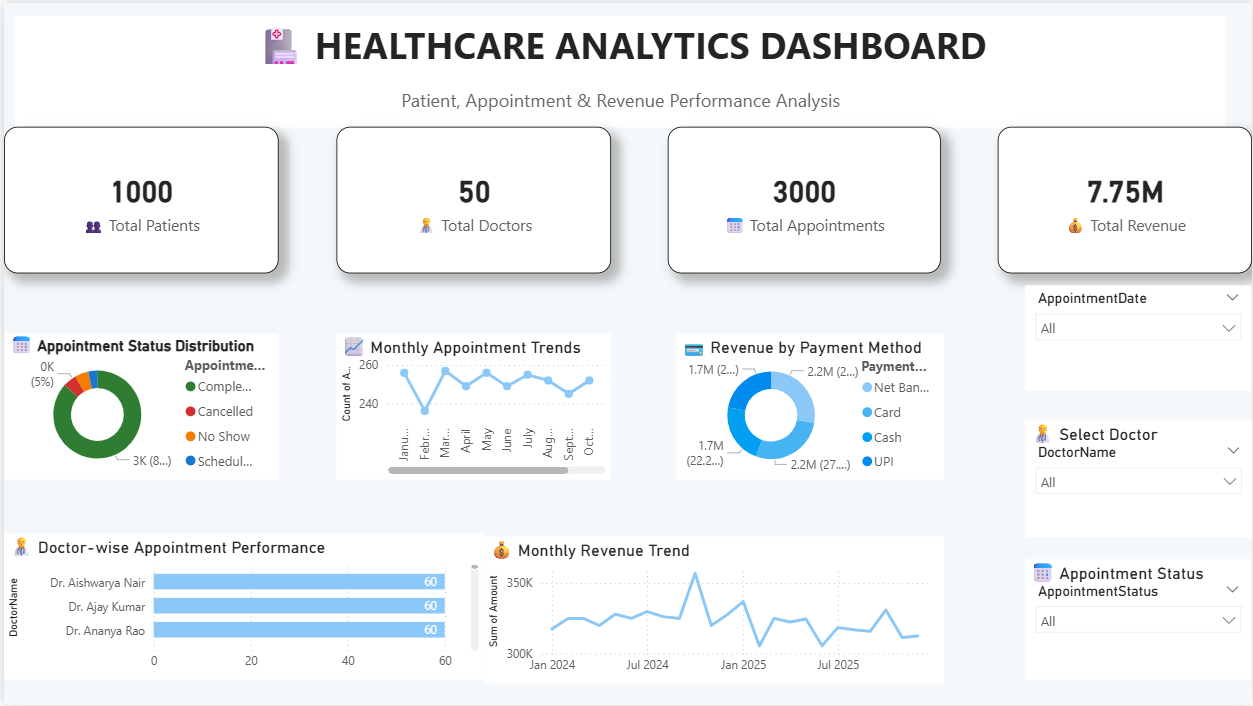

Layout of this report page (visuals, bound fields, positions):
{"tool":"powerbi","page":{"name":"Hospital Overview","canvas":[1280,720],"ordinal":0},"visuals":[{"type":"textbox","box":[11.6,12.8,1241.9,69.8],"z":0},{"type":"textbox","box":[11.6,82.6,1241.9,45.3],"z":1000},{"type":"card","title":"Total Patients","fields":{"Values":["CountNonNull(healthcare_analysis patients.PatientID)"]},"box":[0,127.2,281.4,150.4],"z":2000},{"type":"card","fields":{"Values":["CountNonNull(healthcare_analysis doctors.DoctorID)"]},"box":[340.4,127.2,281.4,150.4],"z":3000},{"type":"card","fields":{"Values":["CountNonNull(healthcare_analysis appointments.AppointmentID)"]},"box":[680.8,127.2,280,150],"z":4000},{"type":"card","fields":{"Values":["Sum(healthcare_analysis billing.Amount)"]},"box":[1019,127.2,261,150],"z":5000},{"type":"donutChart","title":"📅 Appointment Status Distribution","fields":{"Category":["healthcare_analysis appointments.AppointmentStatus"],"Y":["CountNonNull(healthcare_analysis appointments.AppointmentDate)"]},"box":[1.2,338.4,280.2,150],"z":6000},{"type":"lineChart","title":"📈 Monthly Appointment Trends","fields":{"Category":["healthcare_analysis appointments.AppointmentDate.Variation.Date Hierarchy.Month"],"Y":["CountNonNull(healthcare_analysis appointments.AppointmentID)"]},"box":[340.7,338.4,281.4,150],"z":7000},{"type":"clusteredBarChart","title":"👨⚕️ Doctor-wise Appointment Performance","fields":{"Category":["healthcare_analysis doctors.DoctorName"],"Y":["CountNonNull(healthcare_analysis appointments.AppointmentID)"]},"box":[0,544.2,491.9,150],"z":8000},{"type":"lineChart","title":"💰 Monthly Revenue Trend","fields":{"Y":["Sum(healthcare_analysis billing.Amount)"],"Category":["healthcare_analysis billing.BillDate.Variation.Date Hierarchy.Year","healthcare_analysis billing.BillDate.Variation.Date Hierarchy.Month"]},"box":[491.9,547.7,472.1,150],"z":9000},{"type":"donutChart","title":"💳 Revenue by Payment Method","fields":{"Category":["healthcare_analysis billing.PaymentMethod"],"Y":["Sum(healthcare_analysis billing.Amount)"]},"box":[689.5,338.4,274.4,150],"z":10000},{"type":"slicer","fields":{"Values":["healthcare_analysis appointments.AppointmentDate"]},"box":[1047.7,289.5,231.4,108.1],"z":11000},{"type":"slicer","title":"👨⚕️ Select Doctor","fields":{"Values":["healthcare_analysis doctors.DoctorName"]},"box":[1047.7,427.9,232.6,119.8],"z":12000},{"type":"slicer","title":"📅 Appointment Status","fields":{"Values":["healthcare_analysis appointments.AppointmentStatus"]},"box":[1047.7,570.9,231.4,123.3],"z":13000}]}

Visuals, with their boxes in screenshot pixels (x1, y1, x2, y2), scaled from the page's 1280x720 canvas onto the 1253x706 screenshot:
textbox: BBox(11, 13, 1227, 81)
textbox: BBox(11, 81, 1227, 125)
"Total Patients" card: BBox(0, 125, 275, 272)
card - CountNonNull(healthcare_analysis doctors.DoctorID): BBox(333, 125, 609, 272)
card - CountNonNull(healthcare_analysis appointments.AppointmentID): BBox(666, 125, 941, 272)
card - Sum(healthcare_analysis billing.Amount): BBox(998, 125, 1252, 272)
"📅 Appointment Status Distribution" donutChart: BBox(1, 332, 275, 479)
"📈 Monthly Appointment Trends" lineChart: BBox(334, 332, 609, 479)
"👨⚕️ Doctor-wise Appointment Performance" clusteredBarChart: BBox(0, 534, 482, 681)
"💰 Monthly Revenue Trend" lineChart: BBox(482, 537, 944, 684)
"💳 Revenue by Payment Method" donutChart: BBox(675, 332, 944, 479)
slicer - healthcare_analysis appointments.AppointmentDate: BBox(1026, 284, 1252, 390)
"👨⚕️ Select Doctor" slicer: BBox(1026, 420, 1252, 537)
"📅 Appointment Status" slicer: BBox(1026, 560, 1252, 681)
